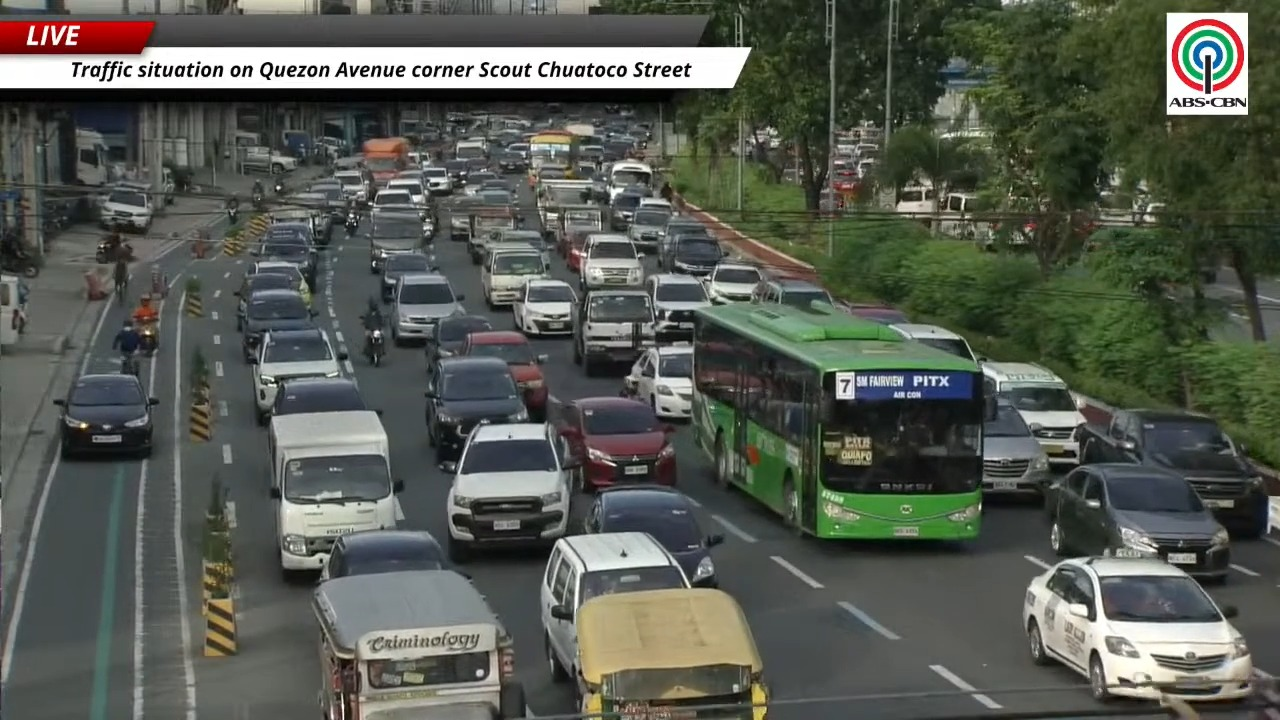bus: (692, 301, 990, 540), (529, 130, 580, 178)
car: (1021, 557, 1253, 701), (540, 532, 690, 682), (1045, 463, 1229, 580), (443, 422, 575, 561), (582, 485, 723, 587), (981, 360, 1085, 468), (424, 356, 528, 463), (560, 396, 676, 488), (250, 329, 346, 424), (54, 373, 157, 457), (458, 330, 548, 421), (320, 529, 446, 580), (983, 403, 1051, 494), (391, 272, 464, 345), (241, 290, 315, 361), (623, 346, 692, 418), (645, 273, 710, 342), (252, 221, 317, 289), (481, 247, 548, 309), (271, 377, 369, 416), (425, 315, 493, 371), (512, 278, 577, 335), (235, 273, 298, 330), (579, 233, 643, 289), (369, 211, 426, 273), (890, 323, 977, 361), (246, 260, 312, 306), (659, 235, 727, 277), (380, 252, 436, 302), (750, 277, 834, 309), (99, 186, 153, 232), (704, 262, 761, 303), (657, 214, 709, 257), (610, 188, 646, 231), (840, 303, 908, 325), (372, 188, 420, 219), (384, 177, 426, 207), (333, 169, 369, 202), (422, 167, 452, 195), (465, 170, 499, 194), (443, 159, 470, 189)
motorcycle: (0, 234, 39, 277), (0, 252, 38, 278), (95, 238, 134, 263), (365, 329, 385, 367), (140, 323, 158, 356), (121, 353, 140, 378), (345, 212, 358, 236), (226, 206, 239, 225), (252, 192, 263, 210), (274, 180, 284, 194)
truck: (311, 570, 526, 719), (1076, 409, 1269, 537), (268, 411, 402, 579), (573, 289, 655, 376), (363, 138, 409, 186), (75, 127, 110, 186), (238, 146, 298, 174)
